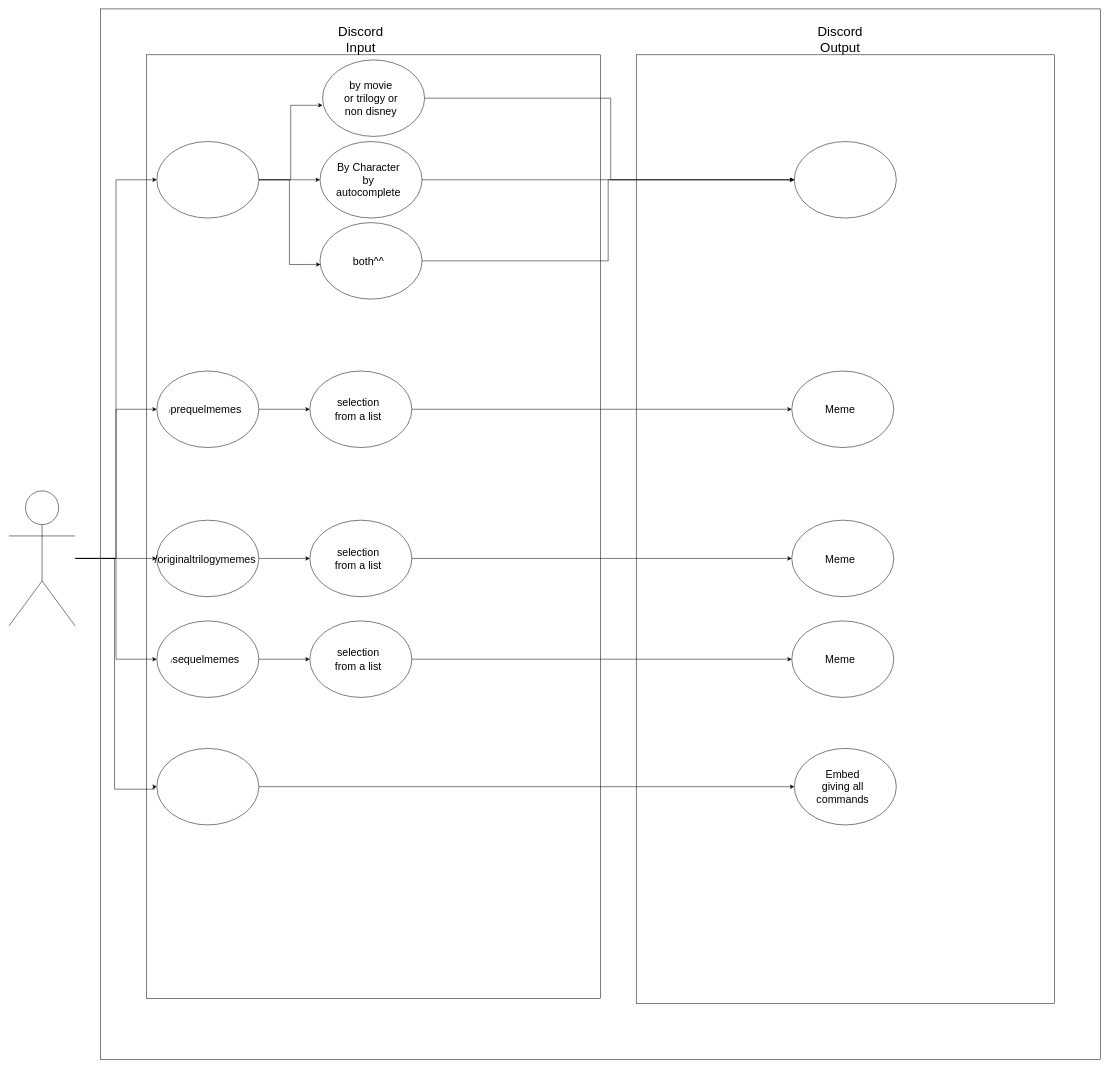
This 1109x1068 diagram has some shape labels left out. The centre of each missing label's shape, as x and y in pixels:
"/help" goes at (x=207, y=786).
"/random" goes at (x=207, y=179).
"Actor" goes at (x=41, y=558).
"Random Quote" goes at (x=845, y=179).
